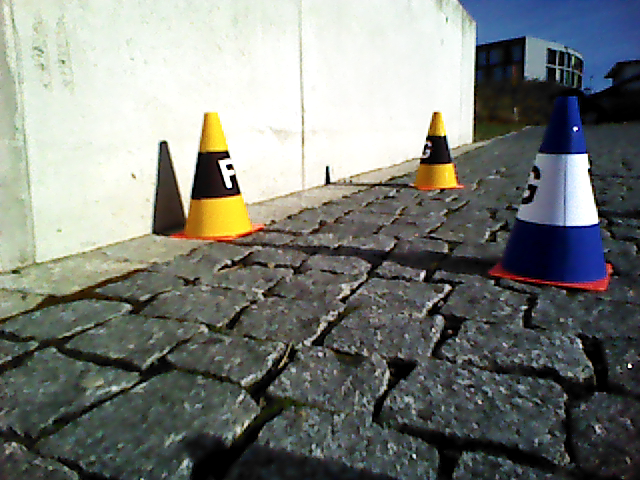bluecone: (505, 95, 605, 281)
yellowcone: (185, 112, 249, 235), (417, 112, 457, 187)
